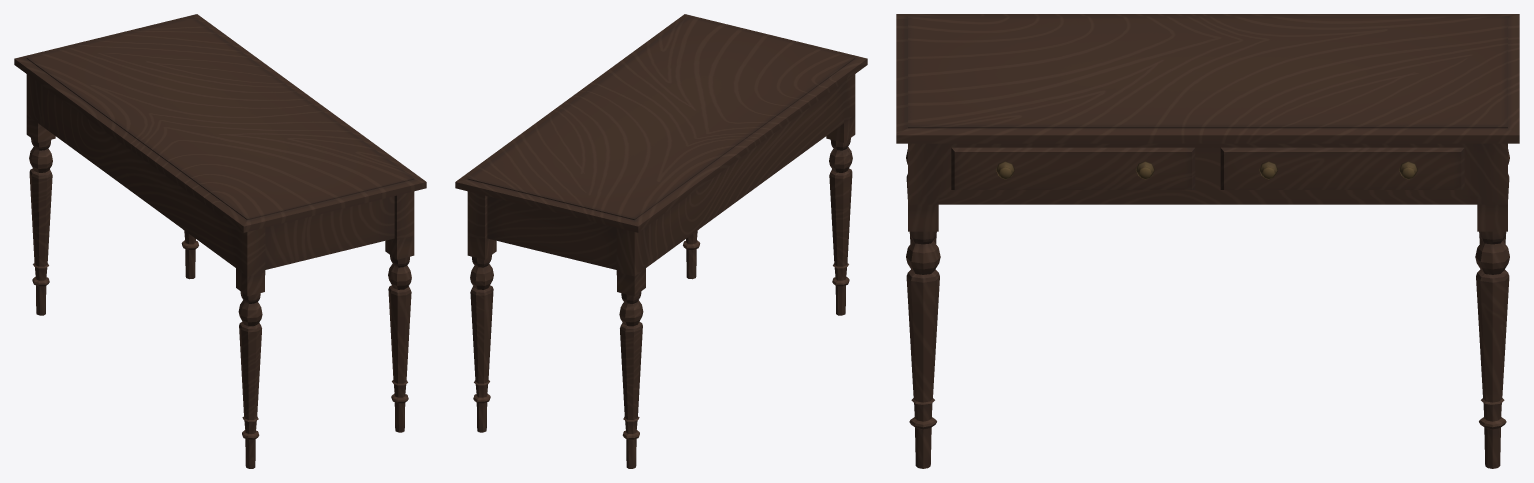
Rendered from Table.fbx.
The picture shows the model from 3 angles, left to right: view 1: azimuth 30°, elevation 25°; view 2: azimuth 150°, elevation 25°; view 3: azimuth 270°, elevation 25°; orthographic projection. The views are drawn at different scales.
Visible parts, largest first — view 1: polySurface57; view 2: polySurface57; view 3: polySurface57.
Part boxes in pixels (x1,y1,x2,y2): polySurface57: [14, 14, 426, 468]; polySurface57: [455, 14, 867, 468]; polySurface57: [896, 14, 1519, 468].
Size of the model in its own units: 22.7 by 29.71 by 48.67.
